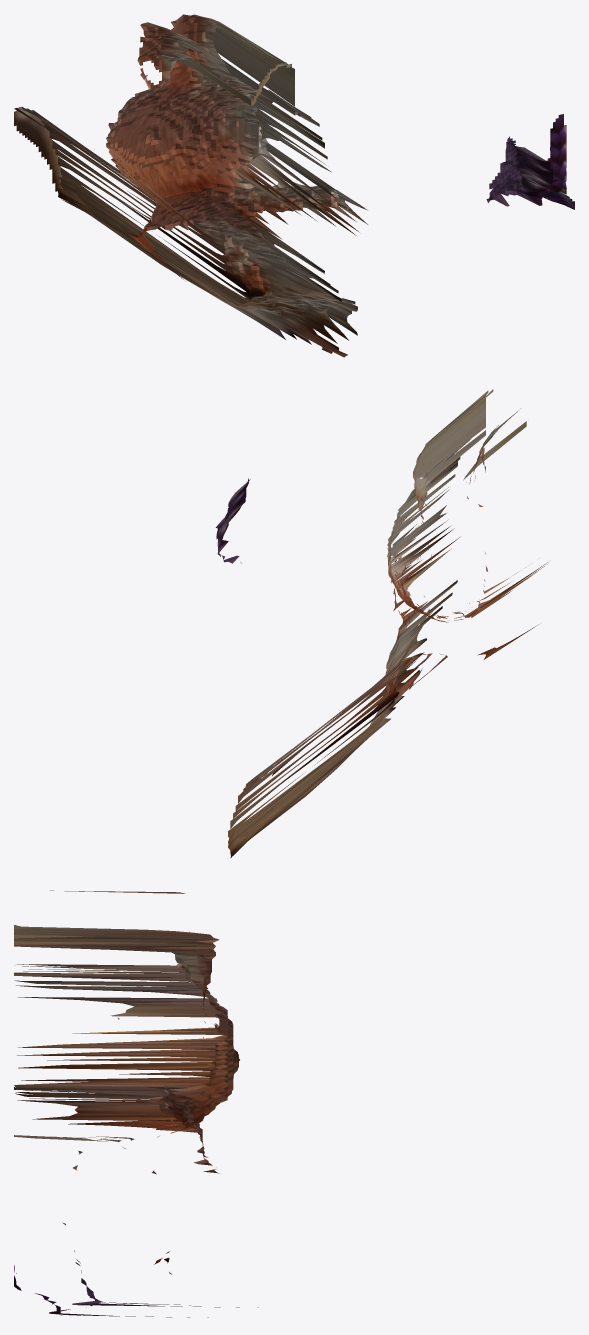
File: frame_00325.glb
The picture shows the model from 3 angles, top to bottom: view 1: azimuth 30°, elevation 25°; view 2: azimuth 150°, elevation 25°; view 3: azimuth 270°, elevation 25°; orthographic projection. The views are drawn at different scales.
Visible parts, largest first — view 1: geometry_0; view 2: geometry_0; view 3: geometry_0.
Boxes of the visible parts, left/top/right/bottom form: geometry_0: left=14, top=14, right=574, bottom=357; geometry_0: left=216, top=389, right=547, bottom=858; geometry_0: left=14, top=890, right=258, bottom=1317.
Size of the model in its own units: 0.1357 by 0.1154 by 0.16.
Materials: 1 (1 with a texture image).
